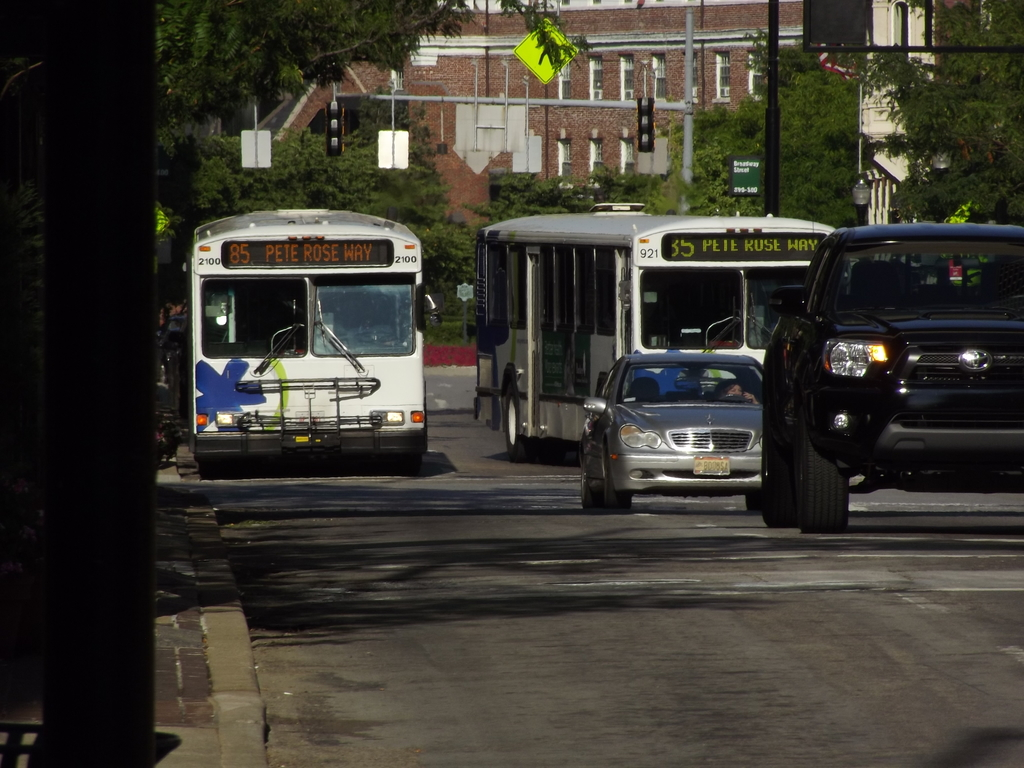Bus: (477, 201, 848, 474), (181, 204, 439, 474)
